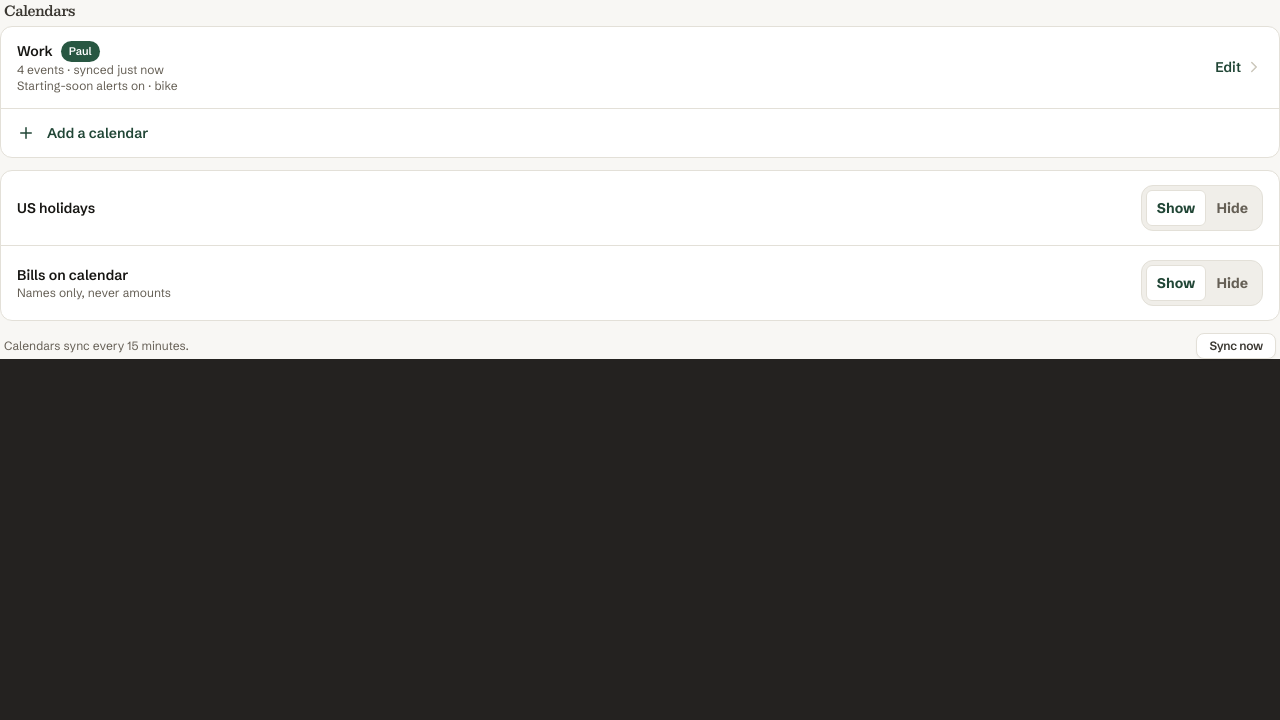
Test: WallCalendarSettings › opens the editor on the tapped calendar, with alerts and travel
Click the button with aria-label "Edit Work" at (35, 51), box [1,27,1279,108]
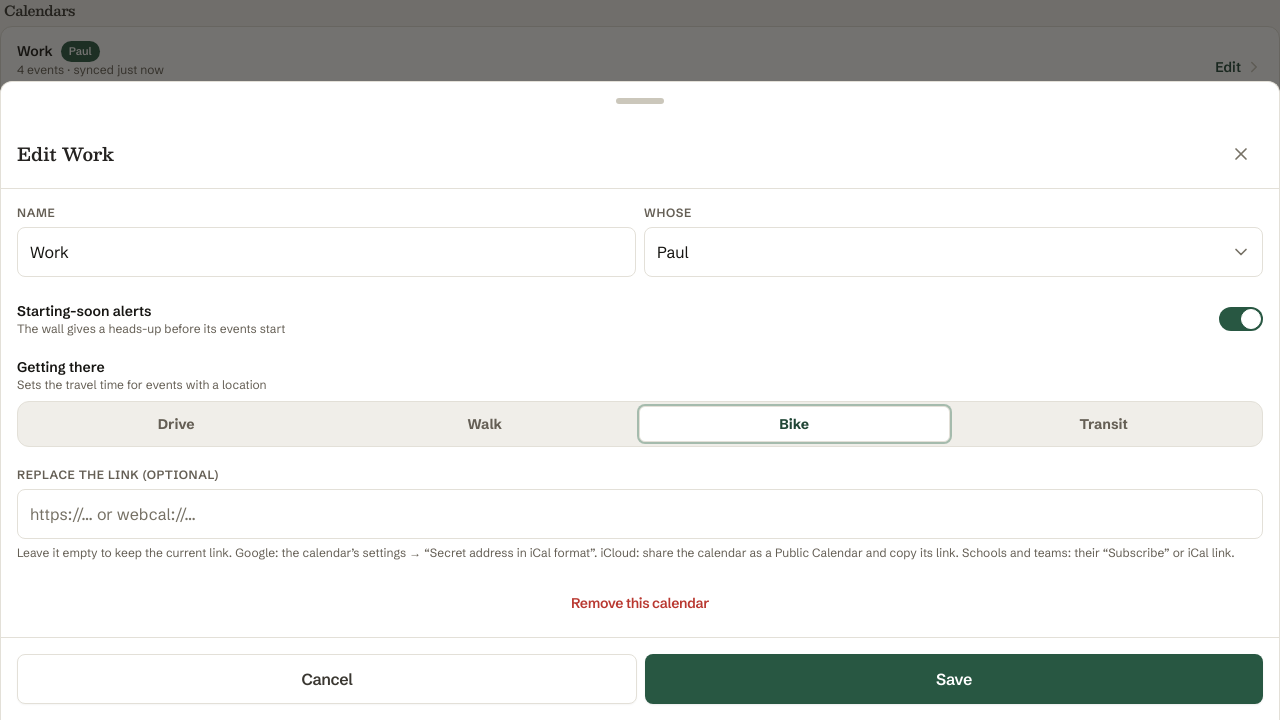
Expected: the dialog shows "Edit Work", [17,138,114,169]
Expected: the field labelled "Name" holds "Work", [17,227,636,277]
Expected: the checkbox labelled "Starting-soon alerts" is checked, [1219,307,1263,331]
